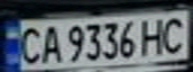3: (81, 20, 103, 62), (100, 19, 121, 61)
6: (115, 17, 142, 60)
9: (63, 21, 84, 63)
A: (36, 22, 63, 64)
C: (157, 14, 190, 54), (15, 24, 45, 65)
H: (136, 15, 169, 56)
